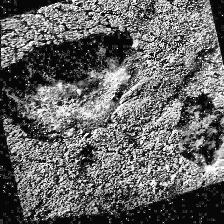pothole: (1, 17, 149, 158), (158, 89, 224, 197)
